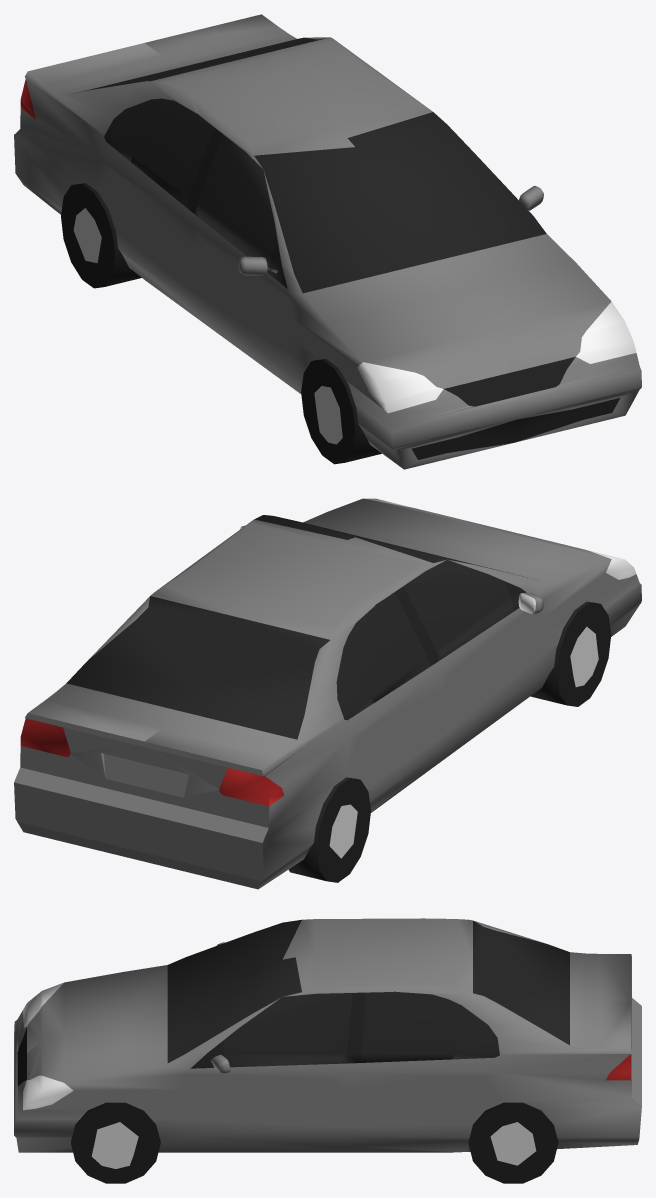
The picture shows the model from 3 angles, top to bottom: view 1: azimuth 30°, elevation 25°; view 2: azimuth 150°, elevation 25°; view 3: azimuth 270°, elevation 25°; orthographic projection. The views are drawn at different scales.
Parts seen in each view (by area): view 1: car_half#1.007; view 2: car_half#1.007; view 3: car_half#1.007.
Part boxes in pixels (x1,y1,x2,y2): car_half#1.007: (14,14,641,469); car_half#1.007: (14,498,641,889); car_half#1.007: (14,918,641,1183).
Bounding box in the file's own units: 35.96 × 24.88 × 78.33.
